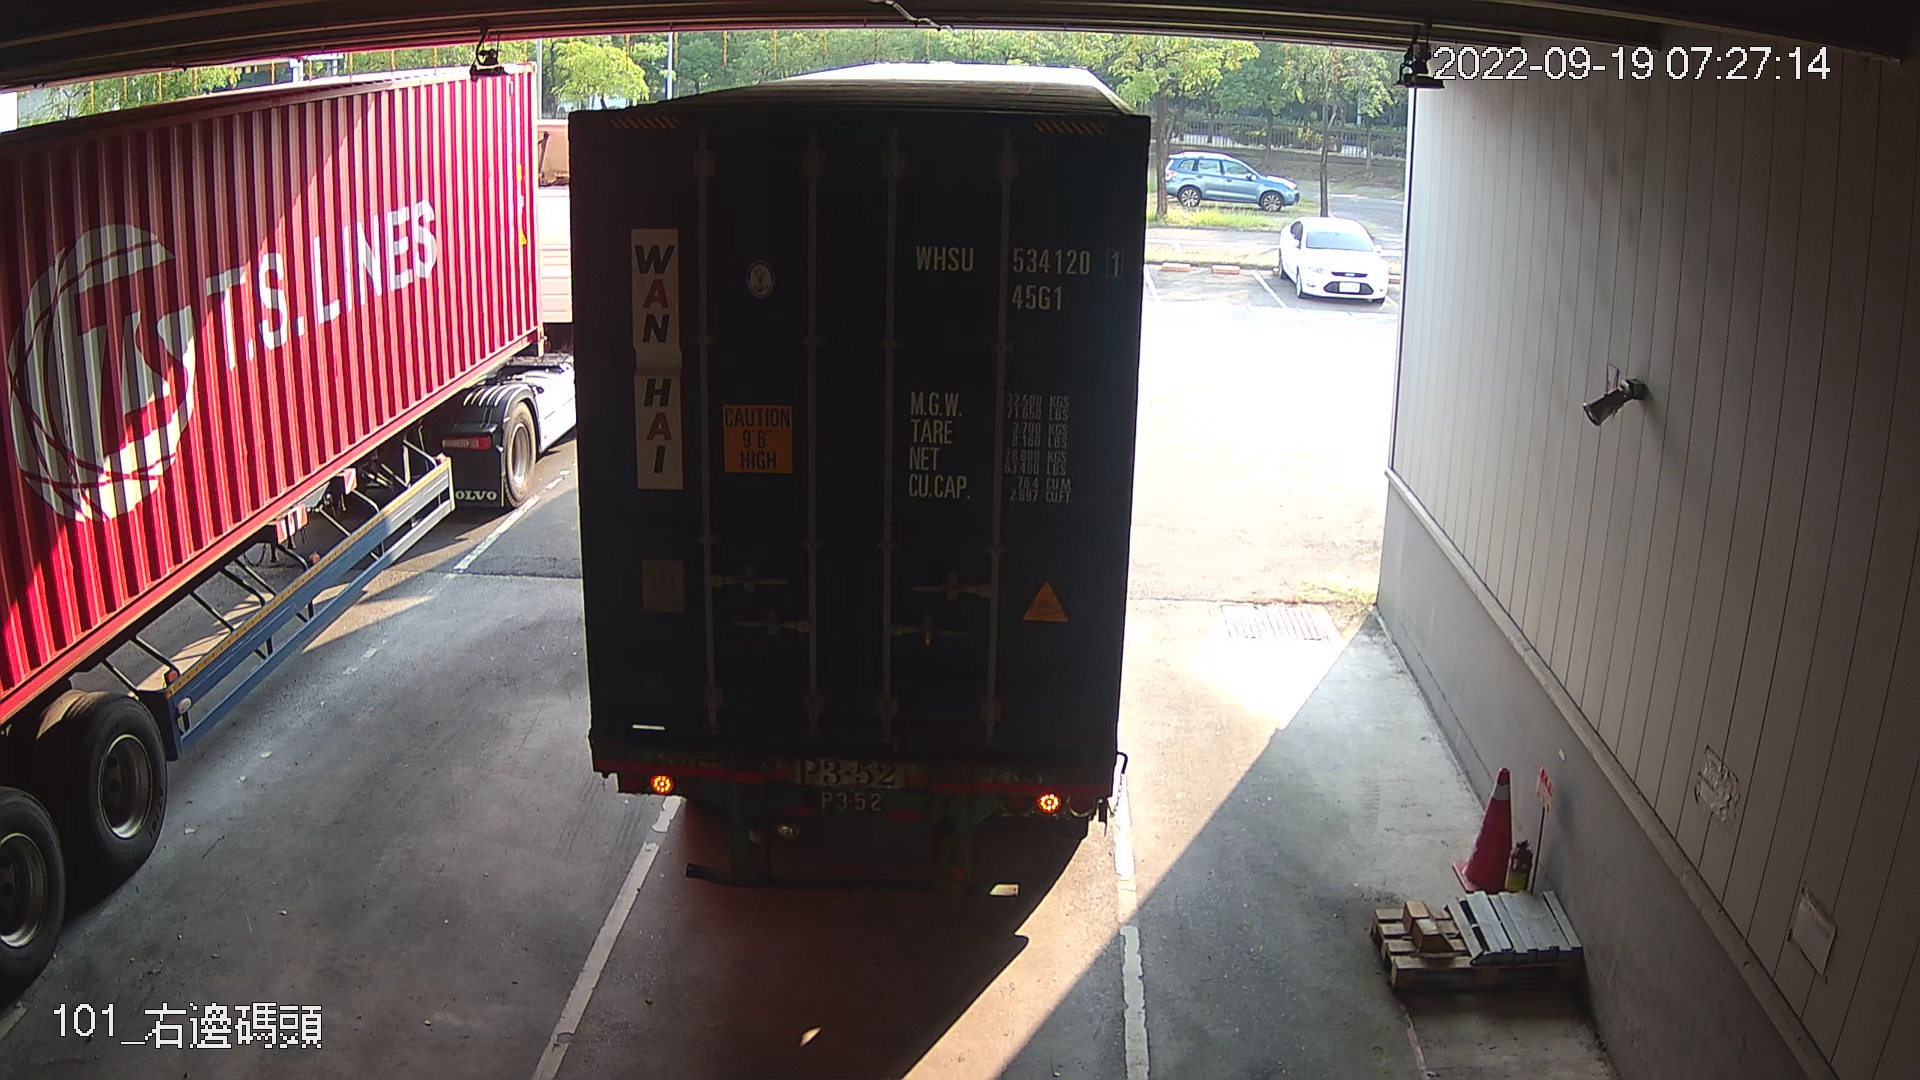container: (910, 229, 1129, 327)
